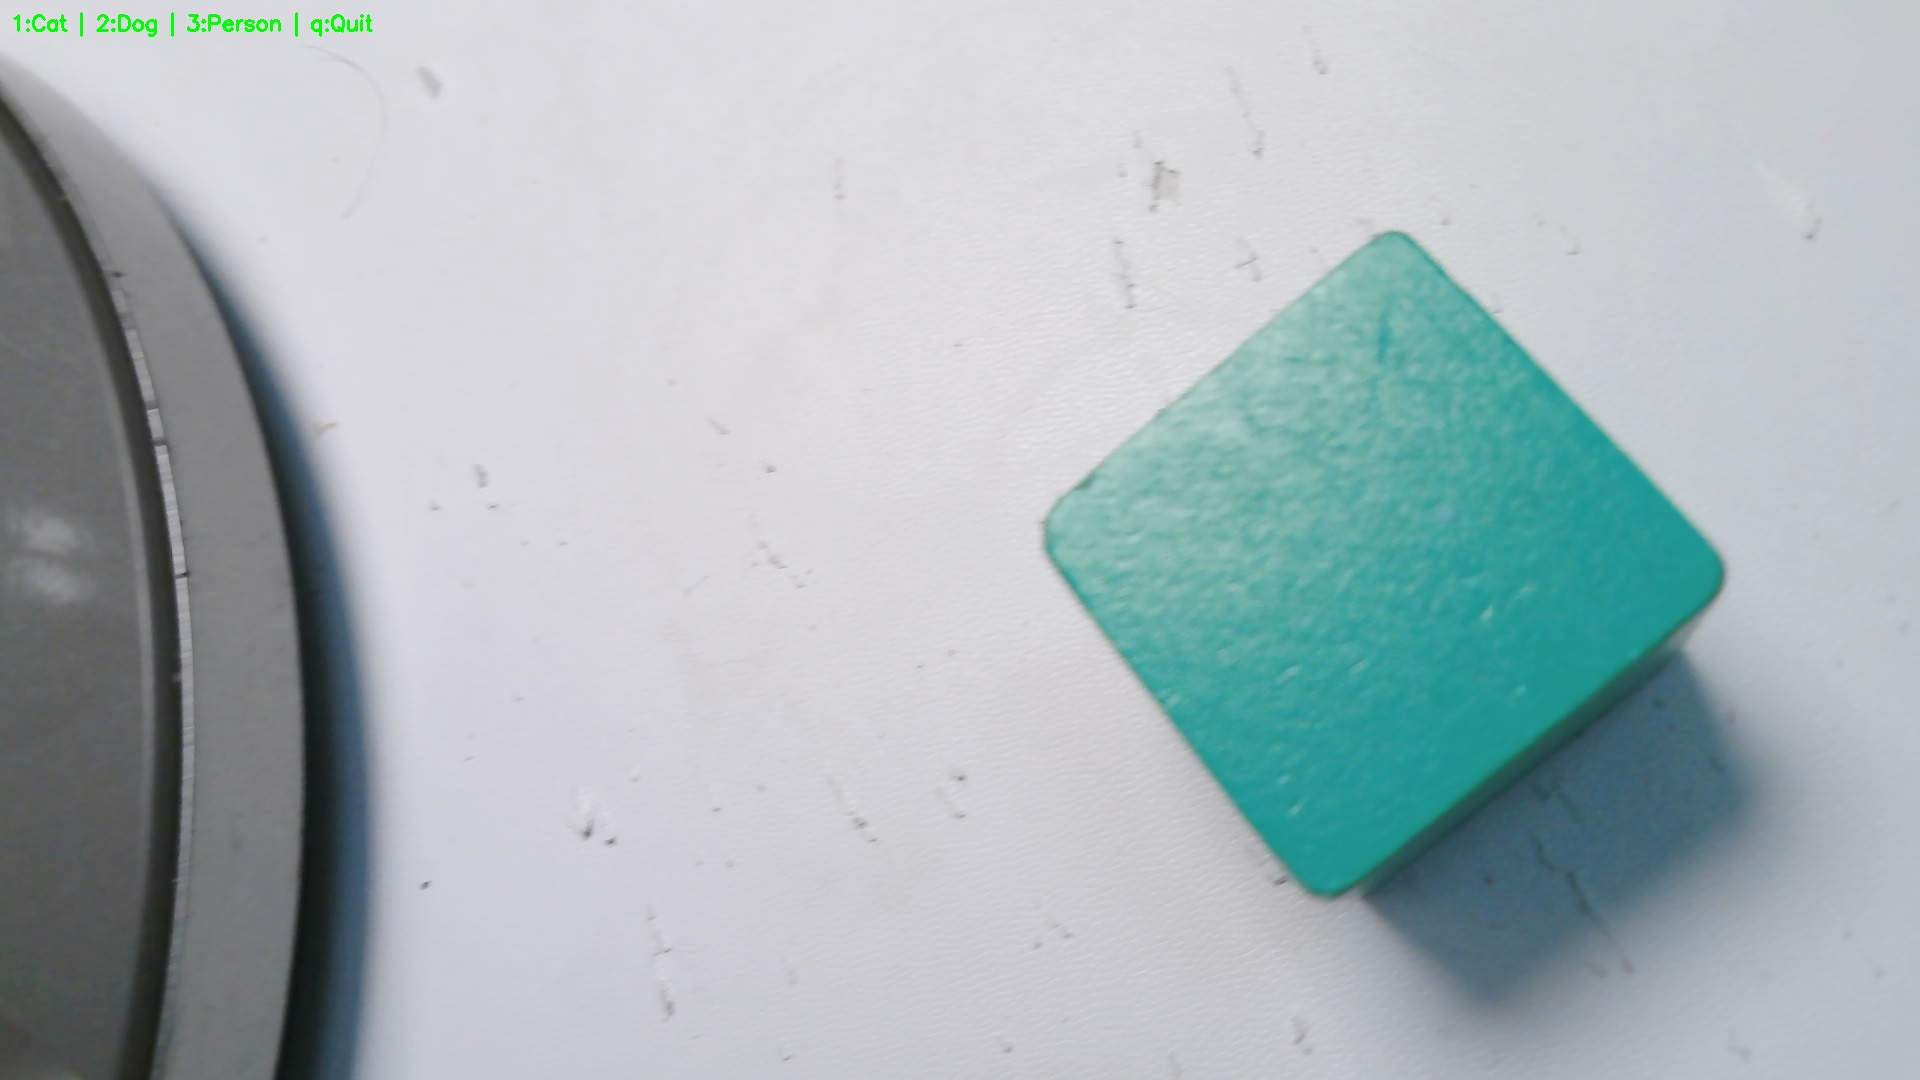green: (1034, 240, 1726, 903)
